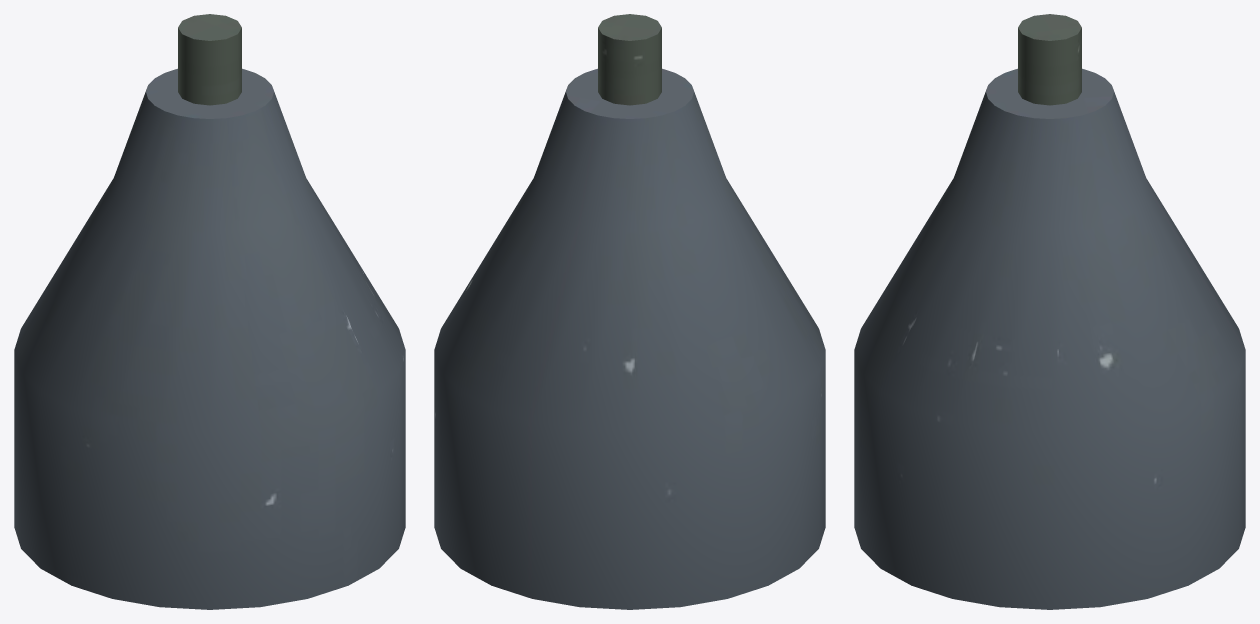
Rendered from pby-mooring-buoy.glb.
3 renders of one model, left to right at view 1: azimuth 30°, elevation 25°; view 2: azimuth 150°, elevation 25°; view 3: azimuth 270°, elevation 25°, orthographic.
Parts seen in each view (by area): view 1: Buoy, MooringEye; view 2: Buoy, MooringEye; view 3: Buoy, MooringEye.
Part boxes in pixels (box(x1,y1,x2,y2)): Buoy: box(14, 68, 405, 609); MooringEye: box(178, 14, 241, 105); Buoy: box(434, 68, 825, 609); MooringEye: box(598, 14, 661, 105); Buoy: box(854, 68, 1245, 609); MooringEye: box(1018, 14, 1081, 105).
Size of the model in its own units: 1.1 by 1.55 by 1.1.
Materials: 1 (1 with a texture image).
